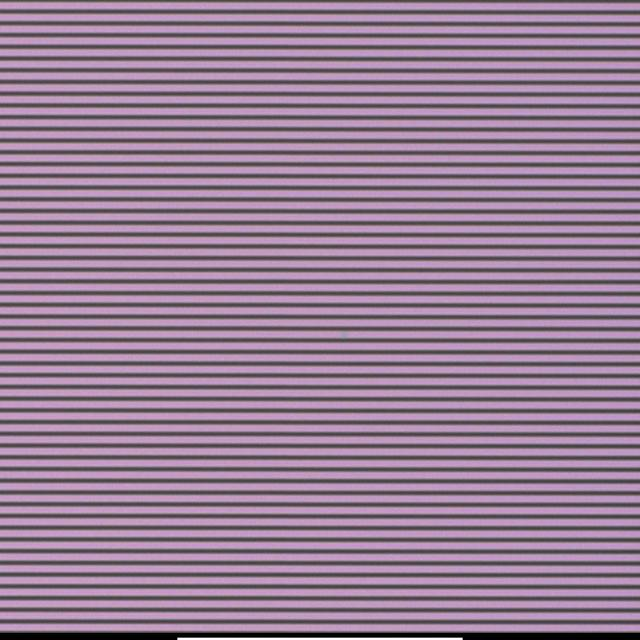nonvisual: (331, 329, 353, 347)
